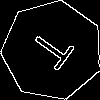T: (27, 25, 83, 78)
